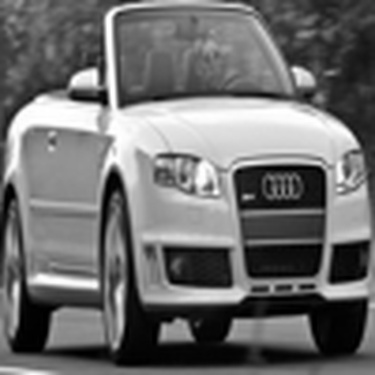car: (3, 5, 372, 370)
